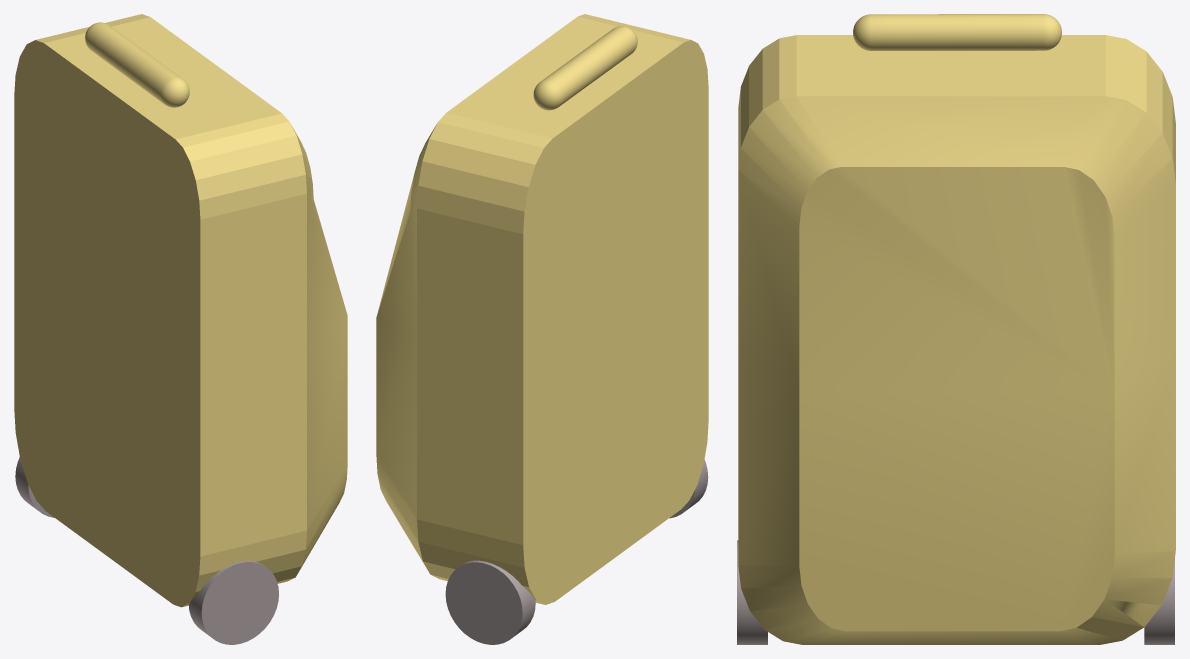
The model's file is kofer2.fbx.
The picture shows the model from 3 angles, left to right: view 1: azimuth 30°, elevation 25°; view 2: azimuth 150°, elevation 25°; view 3: azimuth 270°, elevation 25°; orthographic projection. The views are drawn at different scales.
Visible parts, largest first — view 1: Cube_1, Cylinder, Capsule, Cylinder_3; view 2: Cube_1, Cylinder_3, Capsule, Cylinder; view 3: Cube_1, Capsule, Cylinder_3, Cylinder.
Part boxes in pixels (<box>): Cube_1: <box>14,14,347,607</box>; Cylinder: <box>188,561,278,644</box>; Capsule: <box>85,22,189,107</box>; Cylinder_3: <box>15,457,54,517</box>; Cube_1: <box>376,14,708,604</box>; Cylinder_3: <box>445,560,535,644</box>; Capsule: <box>533,26,637,110</box>; Cylinder: <box>669,459,708,518</box>; Cube_1: <box>738,35,1175,644</box>; Capsule: <box>853,14,1061,50</box>; Cylinder_3: <box>1144,559,1174,644</box>; Cylinder: <box>737,540,767,644</box>.
Bounding box in the file's own units: 108 × 312 × 201.
